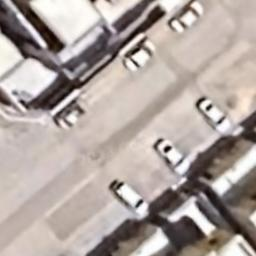SUV: (110, 182, 149, 216)
sedan: (154, 139, 192, 176), (197, 95, 231, 136), (170, 1, 204, 35), (122, 40, 158, 72), (58, 99, 88, 130)
